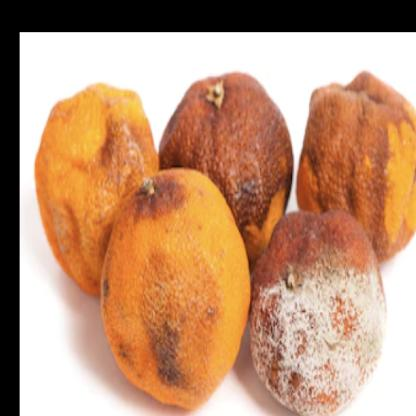rotten: (34, 77, 416, 416)
